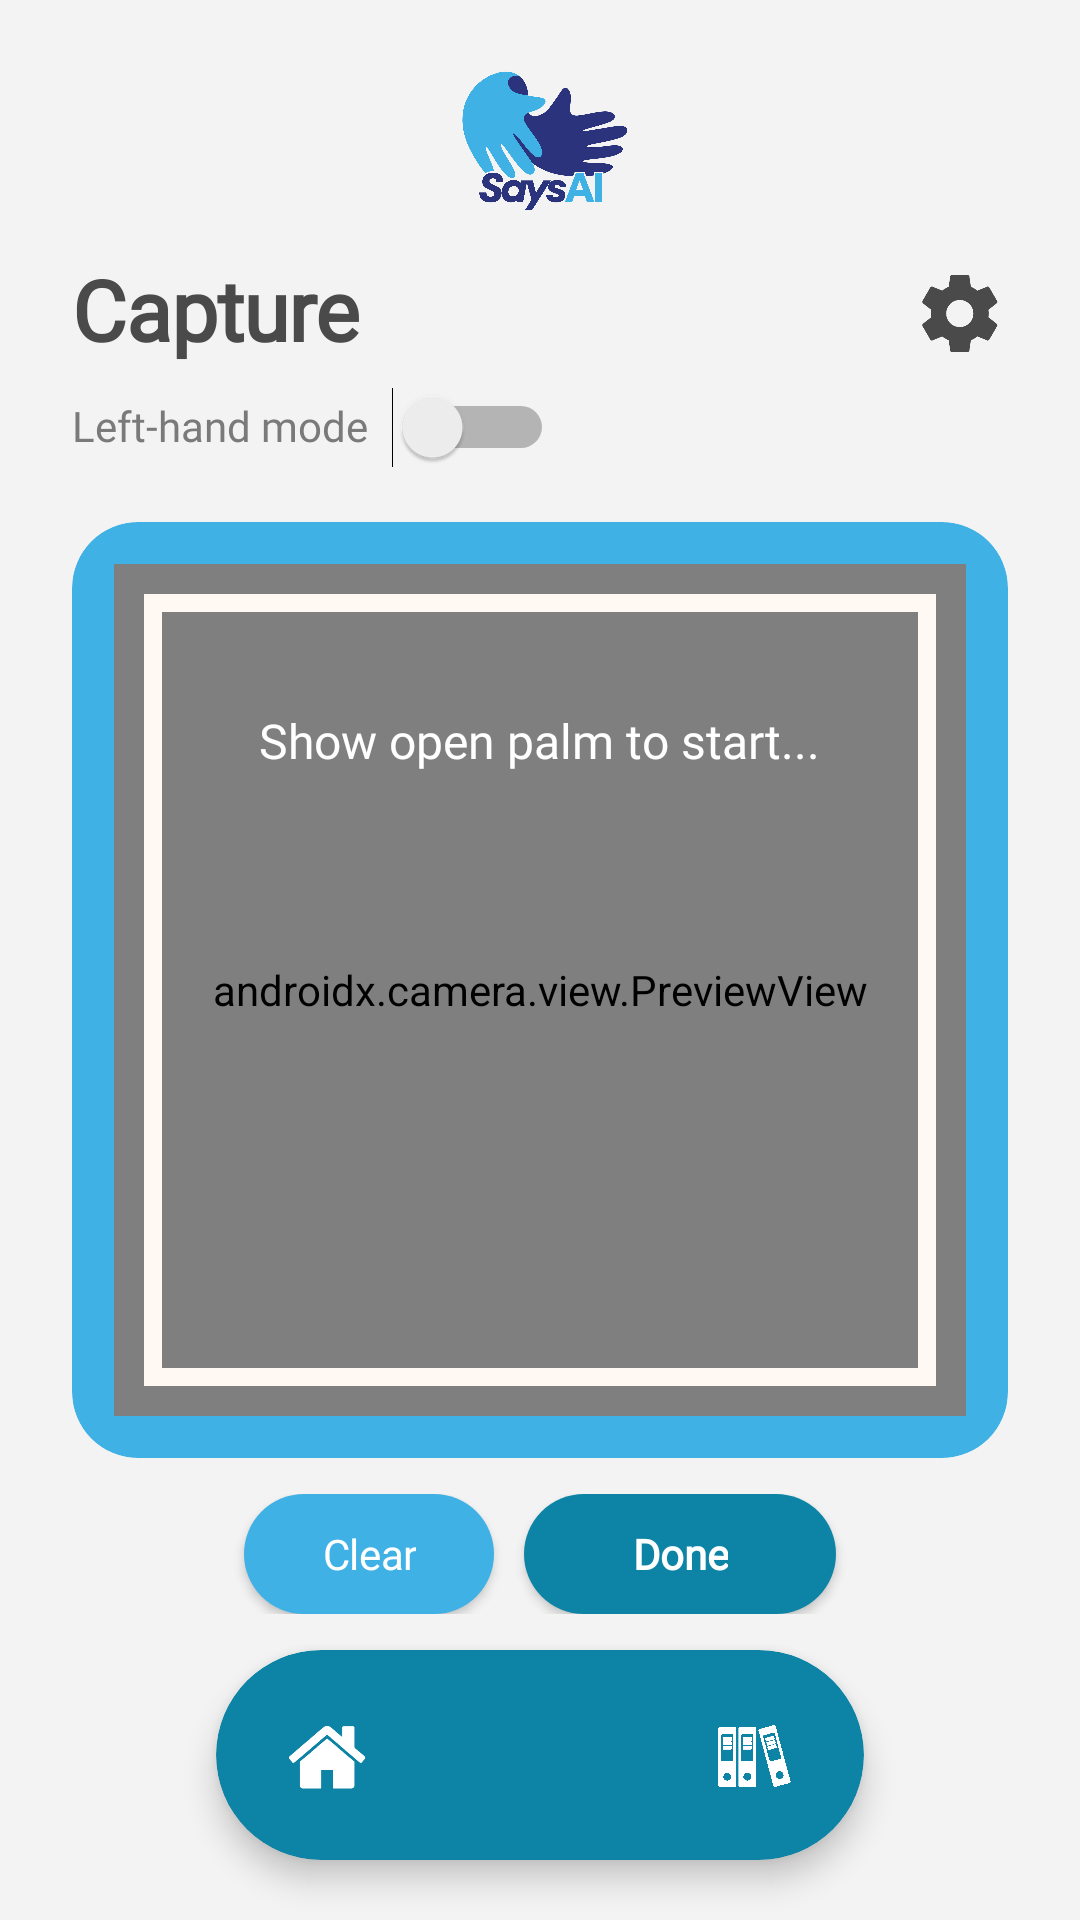

Where icons sit on this 1080×1920 app screen, as (x1, y1, x2, y2):
archive: (718, 1725, 791, 1787)
home: (289, 1726, 365, 1789)
Settings: (922, 275, 998, 352)
